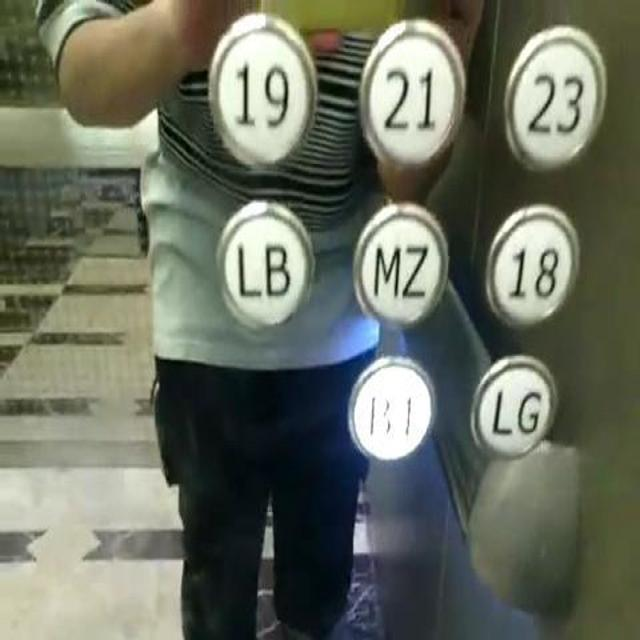18: (484, 202, 582, 330)
19: (206, 8, 317, 171)
21: (354, 13, 468, 172)
23: (501, 22, 609, 174)
B1: (343, 350, 436, 462)
LB: (212, 196, 313, 331)
LG: (468, 352, 556, 463)
MZ: (350, 198, 449, 330)
